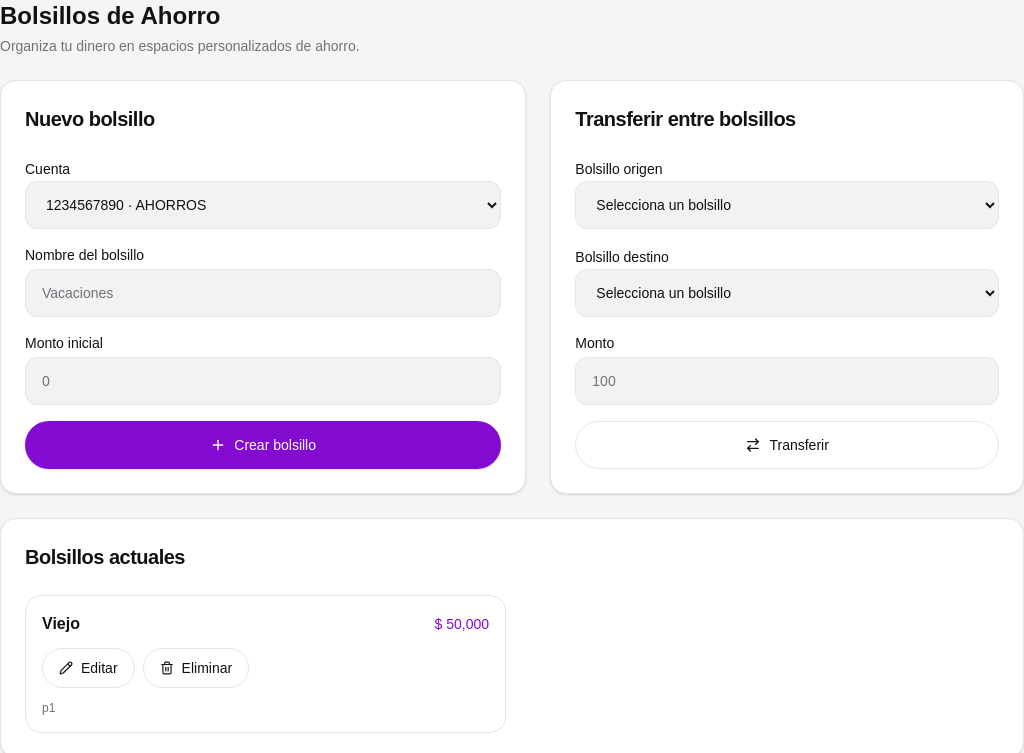
Scenario: PocketsClient › should edit and save a pocket name
expect the heading "Viejo" is shown: met, box [42,612,80,636]
Click the button "Editar" at (88, 668), box [42,648,135,688]
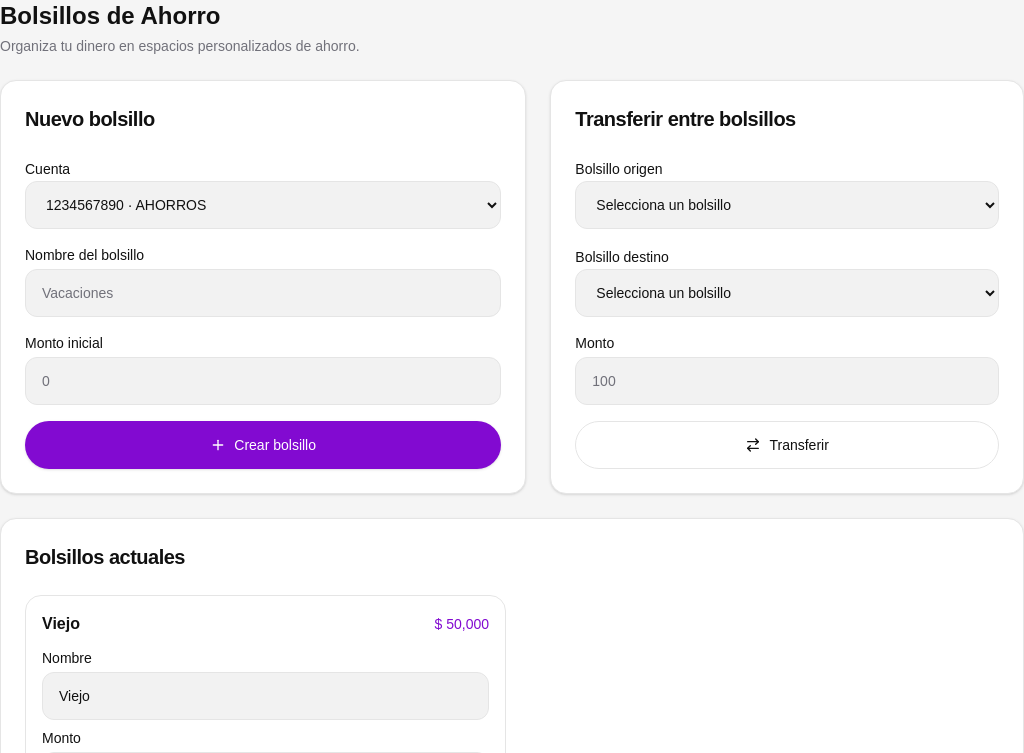
Replace the text in the field showing "Viejo" with "Renombrado" at (266, 696), box [42,672,489,720]
(page scrolled)
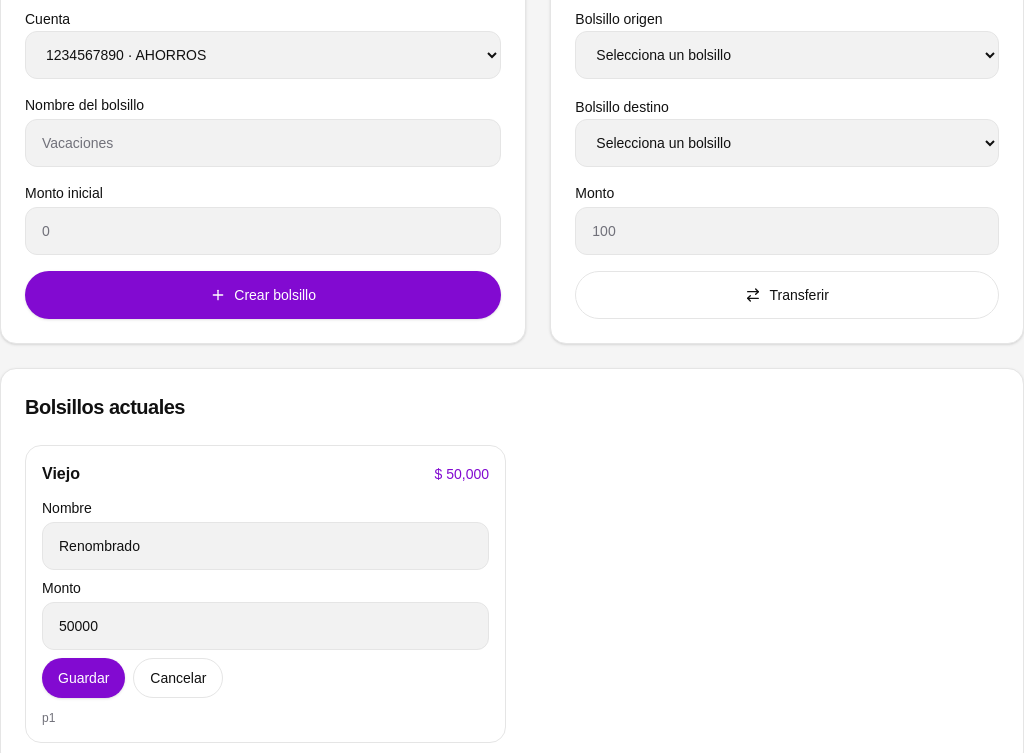
Replace the text in the number field showing "50000" with "60000" at (266, 626), box [42,602,489,650]
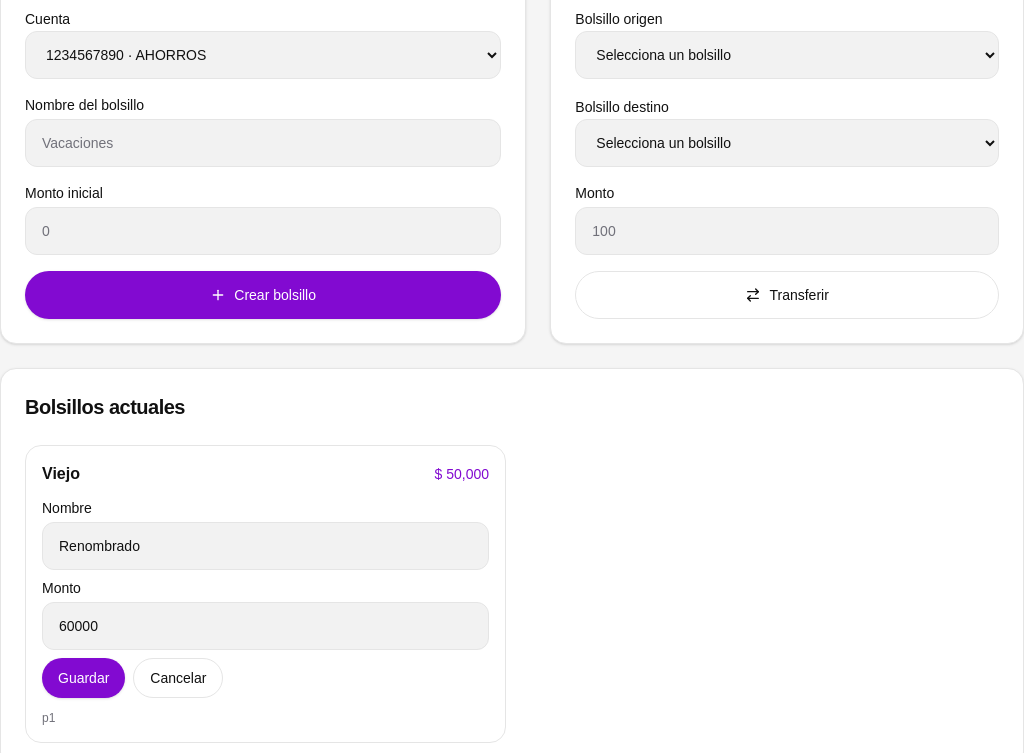
Click the button "Guardar" at (84, 678), box [42,658,125,698]
(page scrolled)
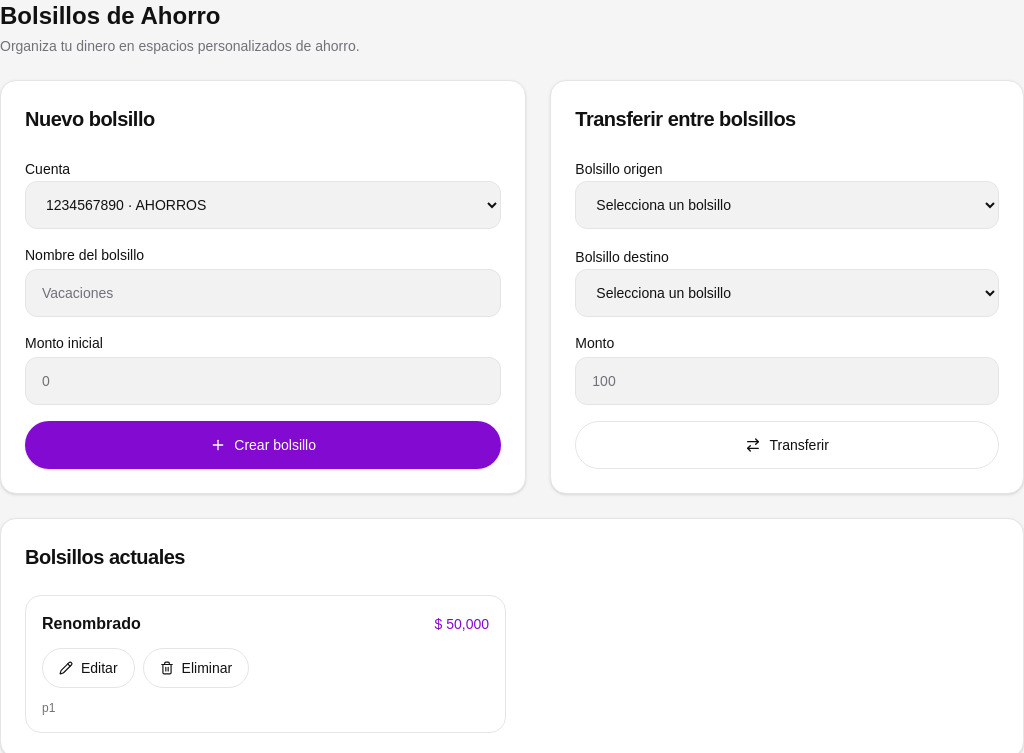
expect the heading "Renombrado" is shown: met, box [42,612,141,636]
